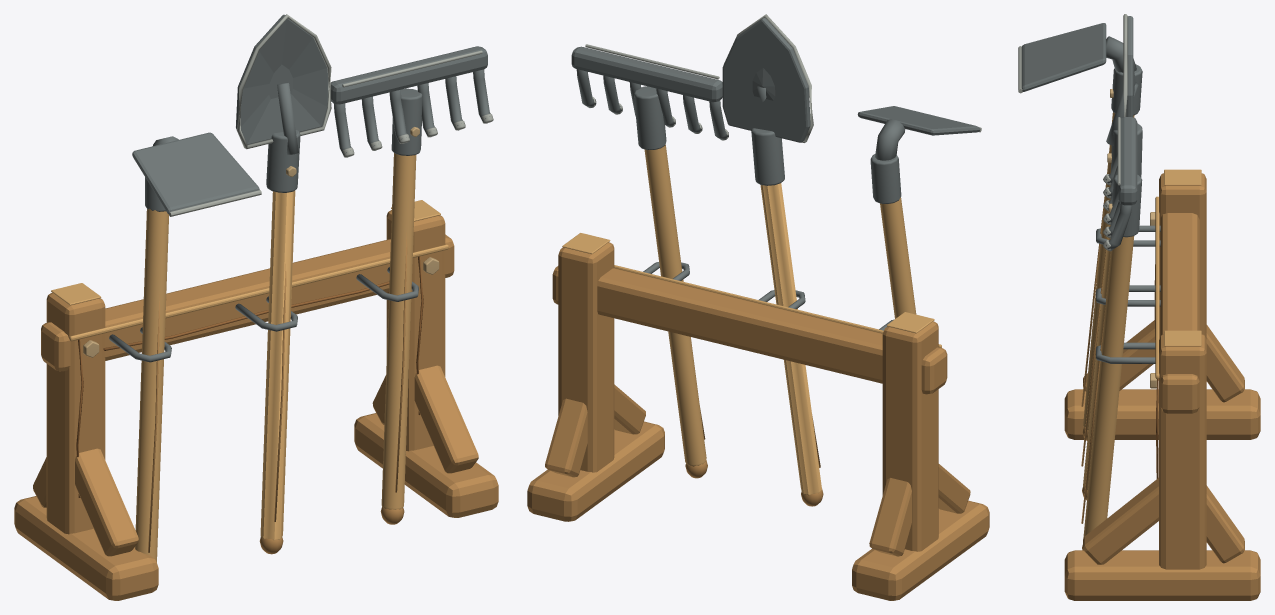
The model's file is farm-tool-bundle.glb.
3 renders of one model, left to right at view 1: azimuth 30°, elevation 25°; view 2: azimuth 150°, elevation 25°; view 3: azimuth 270°, elevation 25°, orthographic. The views are drawn at different scales.
Parts seen in each view (by area): view 1: farm-tool-bundle; view 2: farm-tool-bundle; view 3: farm-tool-bundle.
Boxes of the visible parts, x1,y1,x2,y2 form: farm-tool-bundle: (14, 14, 498, 600); farm-tool-bundle: (527, 14, 989, 600); farm-tool-bundle: (1018, 14, 1260, 600).
Bounding box in the file's own units: 1.6 × 1.93 × 0.8408.
